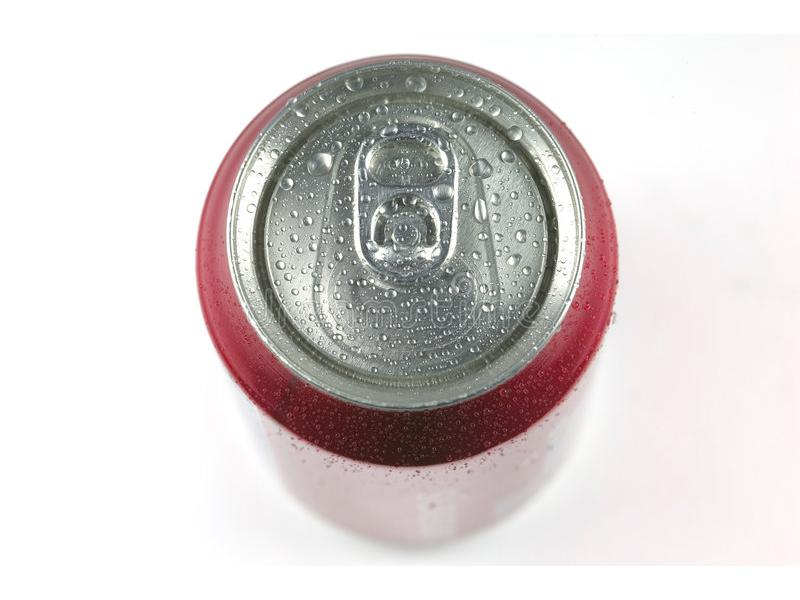can: (189, 42, 629, 545)
